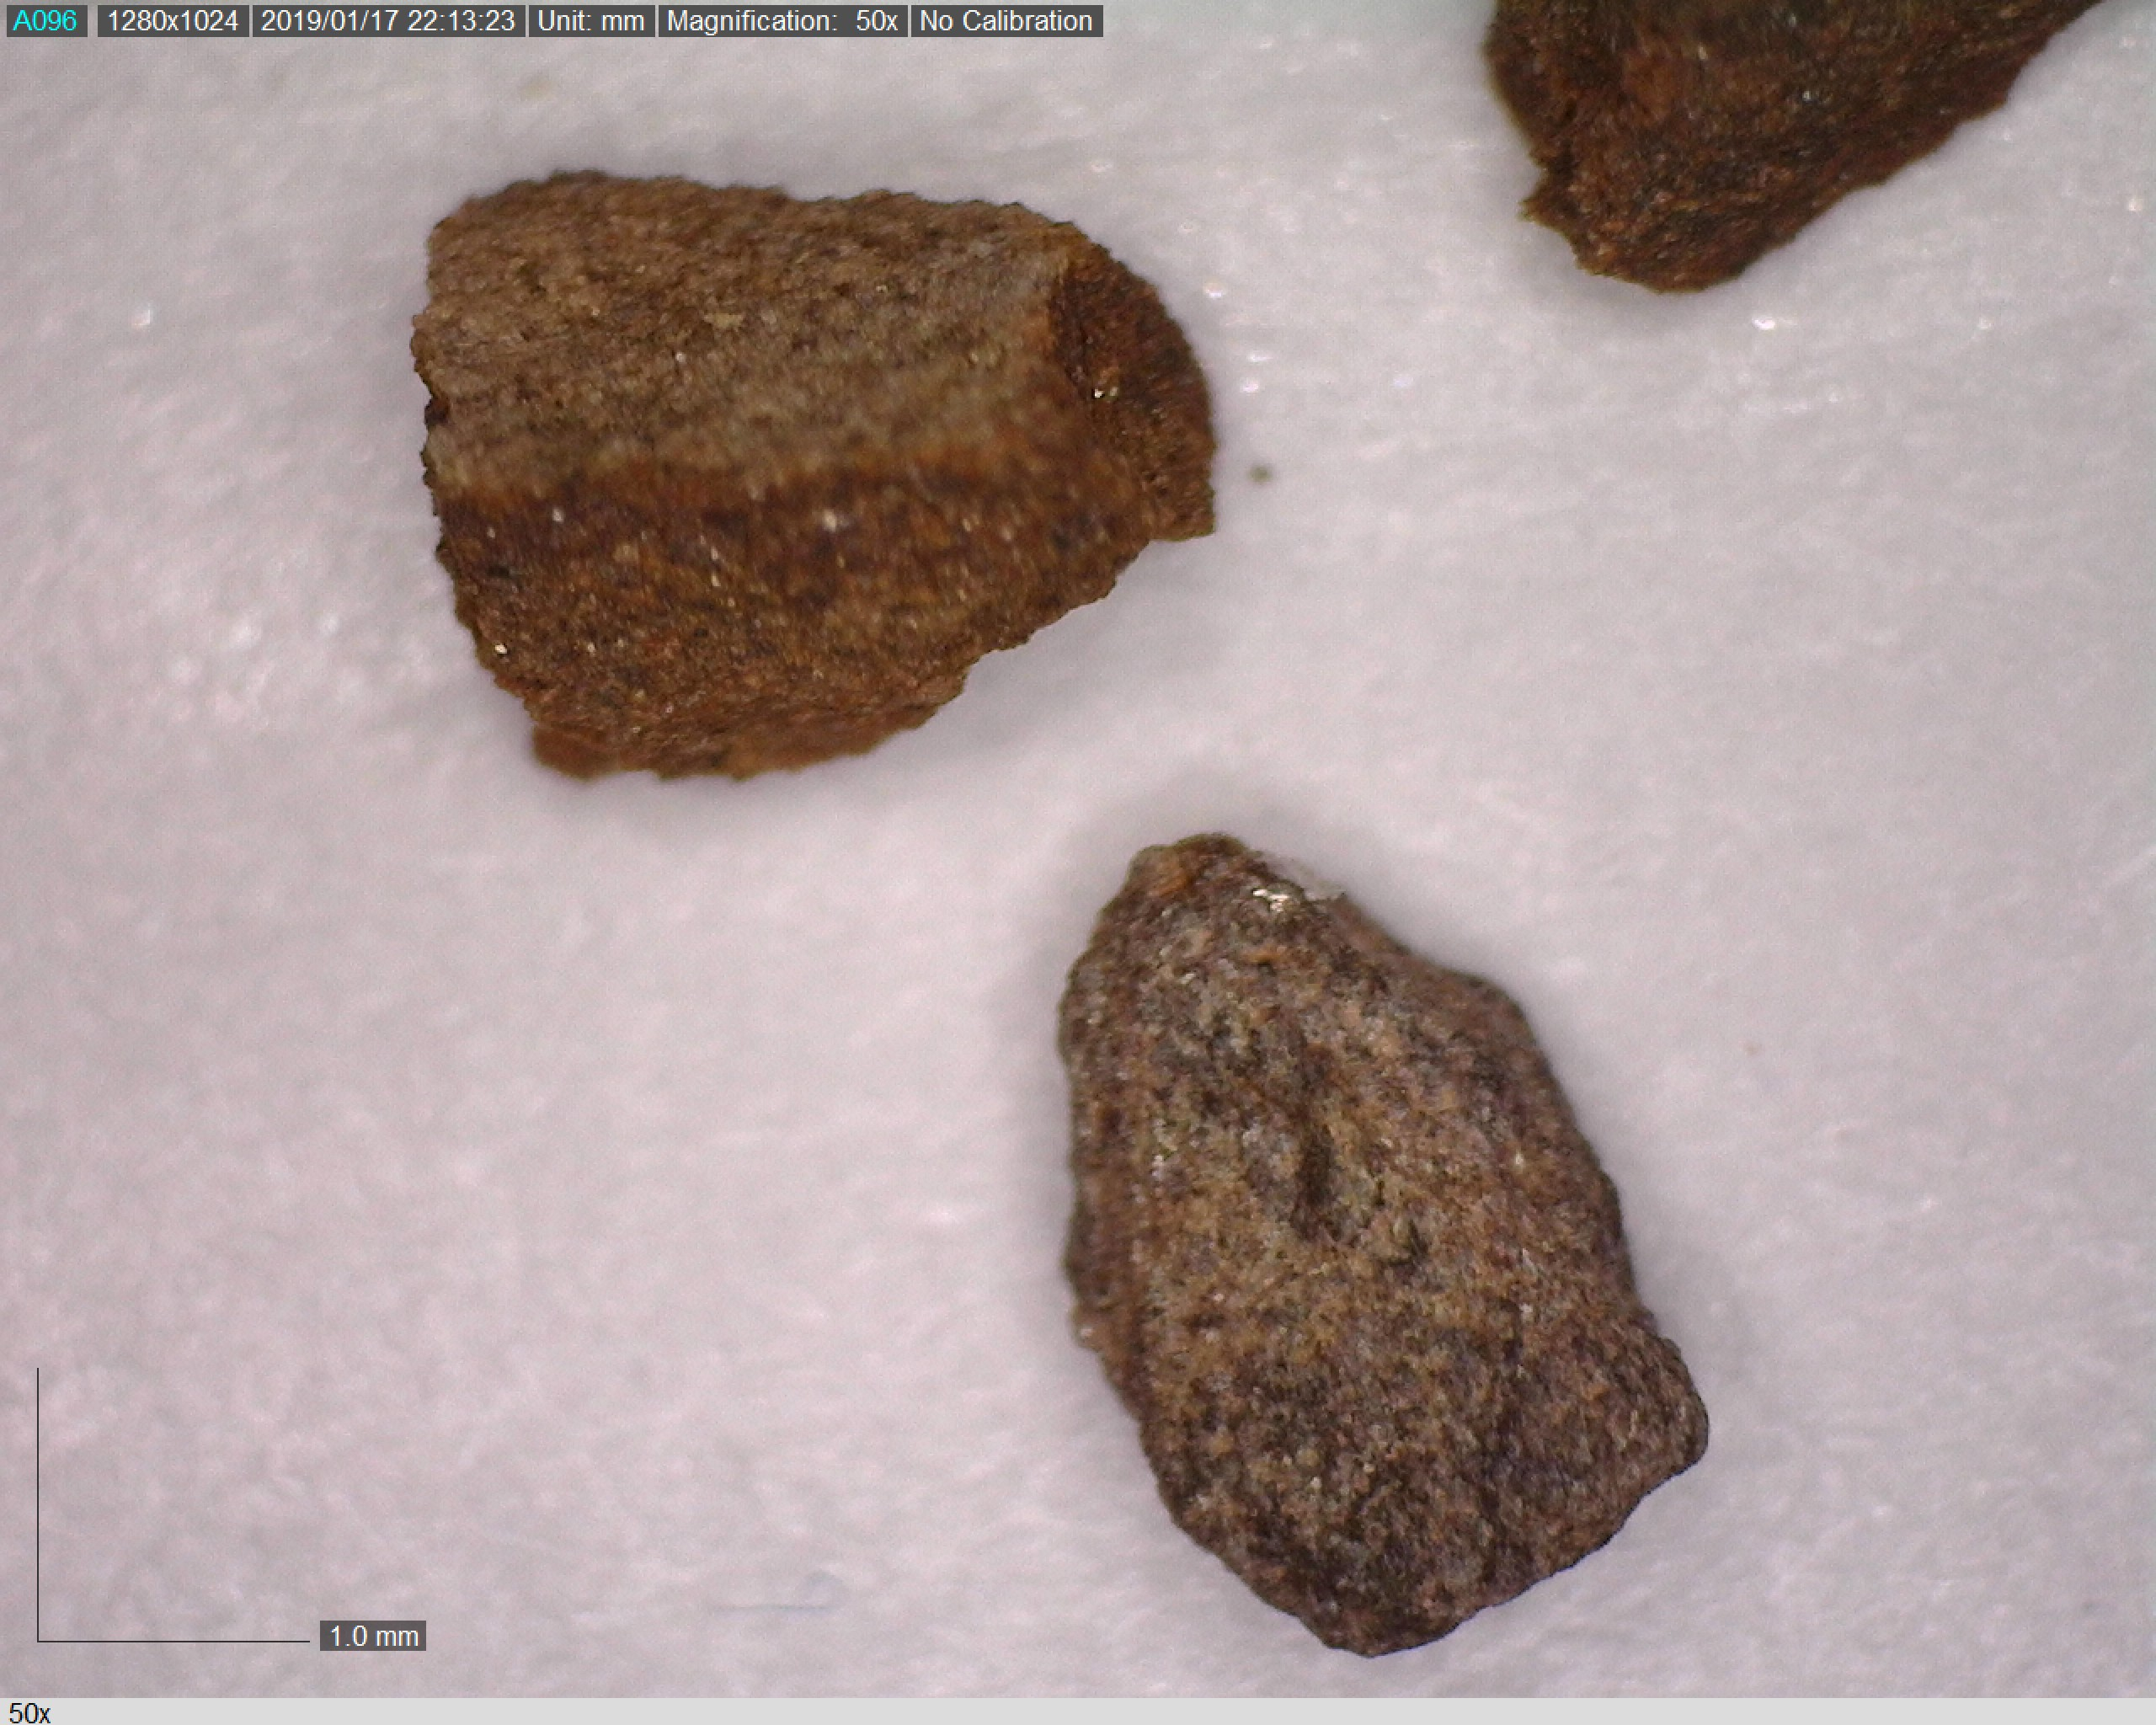Sandstone: (1045, 815, 1727, 1669), (401, 162, 1227, 782)
